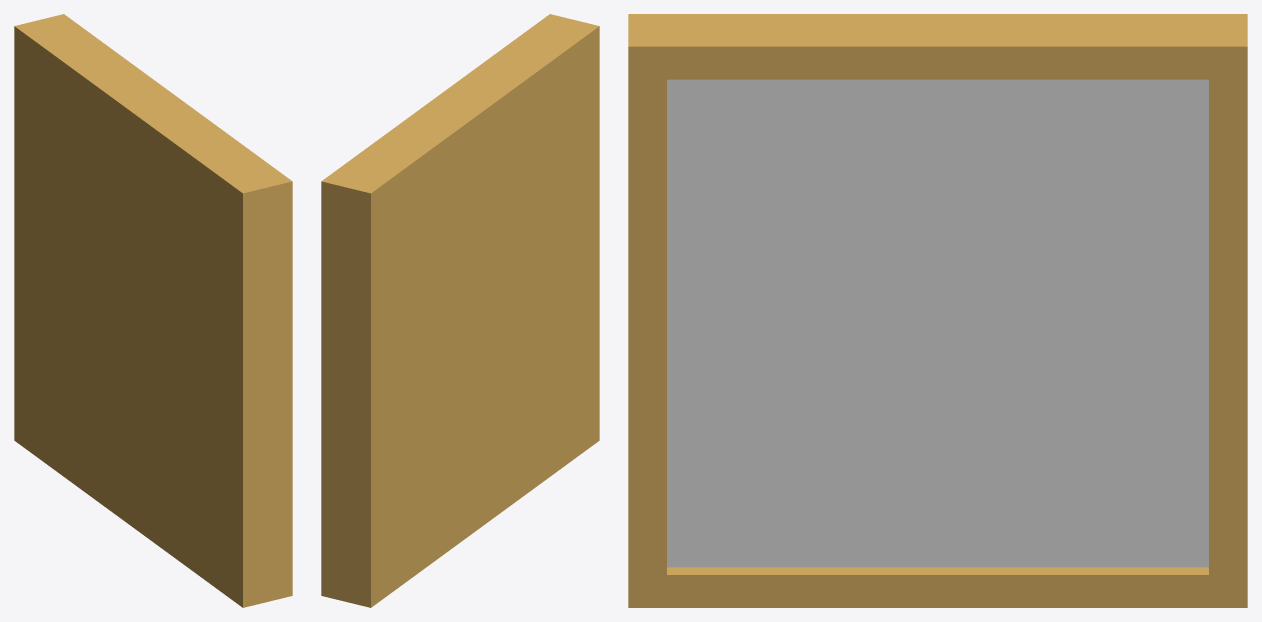
Rendered from Window.3.fbx.
The picture shows the model from 3 angles, left to right: view 1: azimuth 30°, elevation 25°; view 2: azimuth 150°, elevation 25°; view 3: azimuth 270°, elevation 25°; orthographic projection. The views are drawn at different scales.
Visible parts, largest first — view 1: Window.3; view 2: Window.3; view 3: Window.3.
Boxes of the visible parts, x1,y1,x2,y2 form: Window.3: (14,14,292,607); Window.3: (321,14,599,607); Window.3: (628,14,1247,607).
Bounding box in the file's own units: 0.1212 × 0.9671 × 0.9671.
